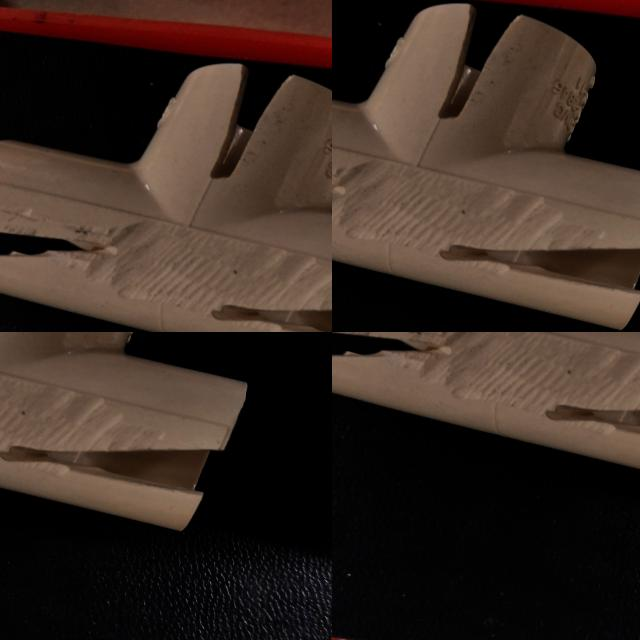Defective: (332, 332, 454, 362), (599, 411, 640, 459)
T Joint: (332, 332, 640, 499), (9, 5, 71, 78)
